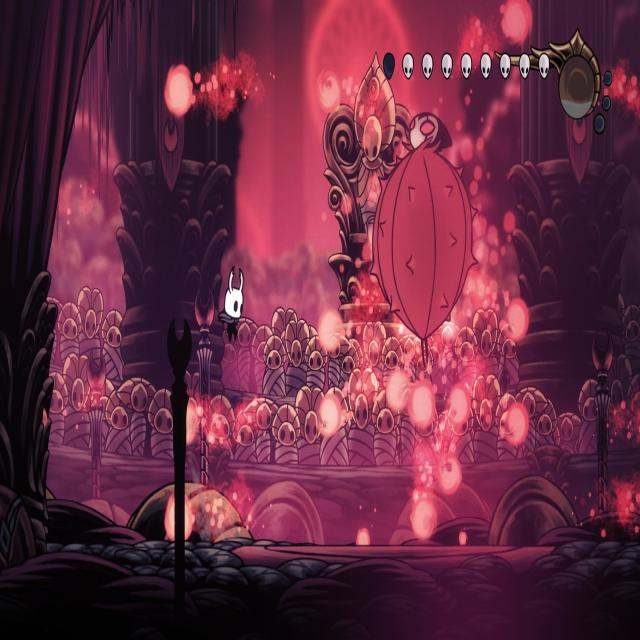Player: (216, 262, 248, 349)
Pufferfish: (367, 105, 482, 378)
Tiny Fireballs: (161, 483, 195, 542), (163, 64, 193, 119), (502, 0, 532, 46), (172, 396, 199, 444), (409, 381, 435, 430), (504, 401, 530, 447), (410, 496, 436, 540), (315, 394, 340, 438), (506, 298, 530, 342), (318, 312, 342, 355), (438, 455, 463, 496), (316, 72, 340, 114), (386, 368, 408, 413), (448, 384, 471, 424)
